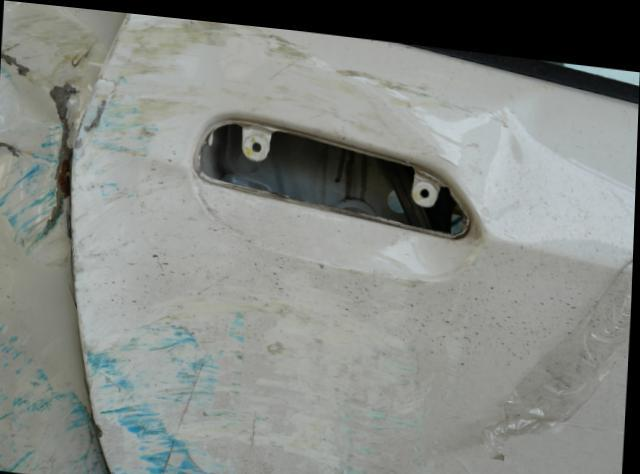dent: (0, 0, 104, 247), (459, 108, 523, 208)
no part: (199, 118, 472, 226)
scratch: (74, 11, 472, 267), (90, 281, 438, 474), (0, 317, 96, 474)
